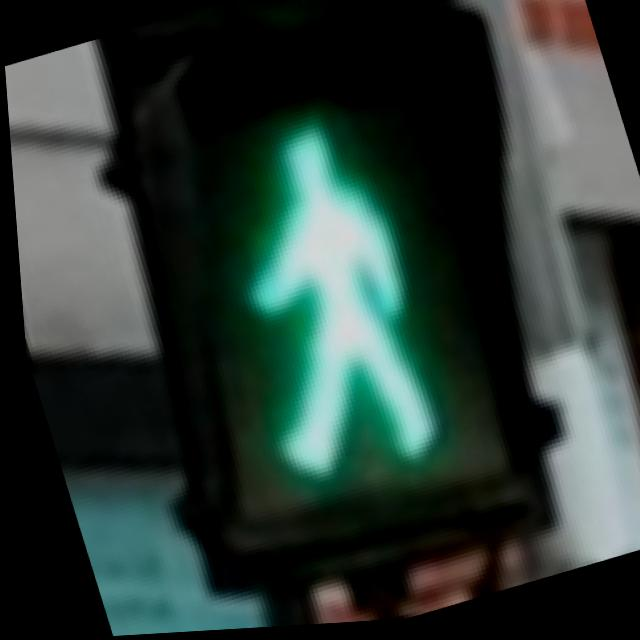green_light: (102, 34, 555, 568)
